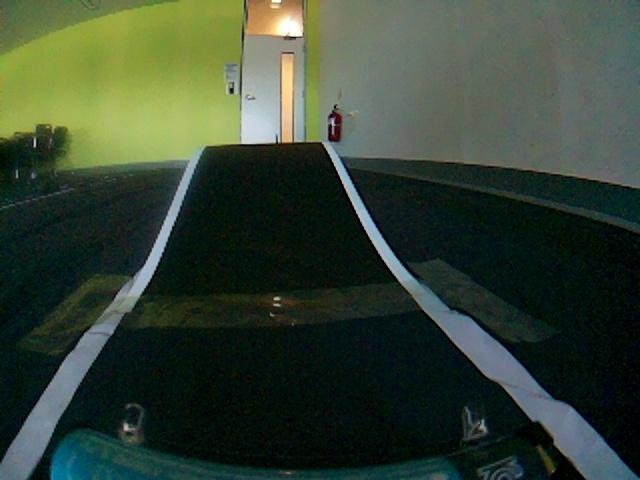go: (0, 310, 640, 480)
hill_up: (109, 142, 455, 310)
